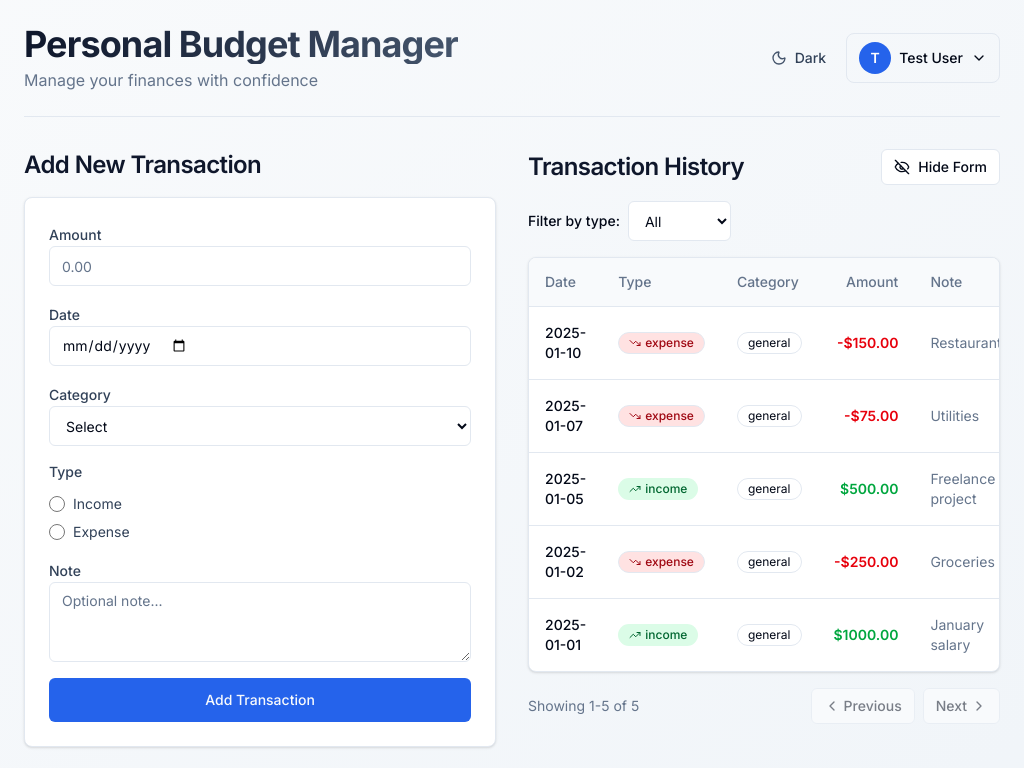
Test: TransactionManager › Authenticated state › filters work correctly in the integrated view
This screenshot has width=1024, height=768.
Expected: the text "Restaurant" is shown, [914,306,999,379]
// Filter by income
Select "Income" in the dropdown labelled "Filter by type:" at (679, 221), box [628,201,731,241]
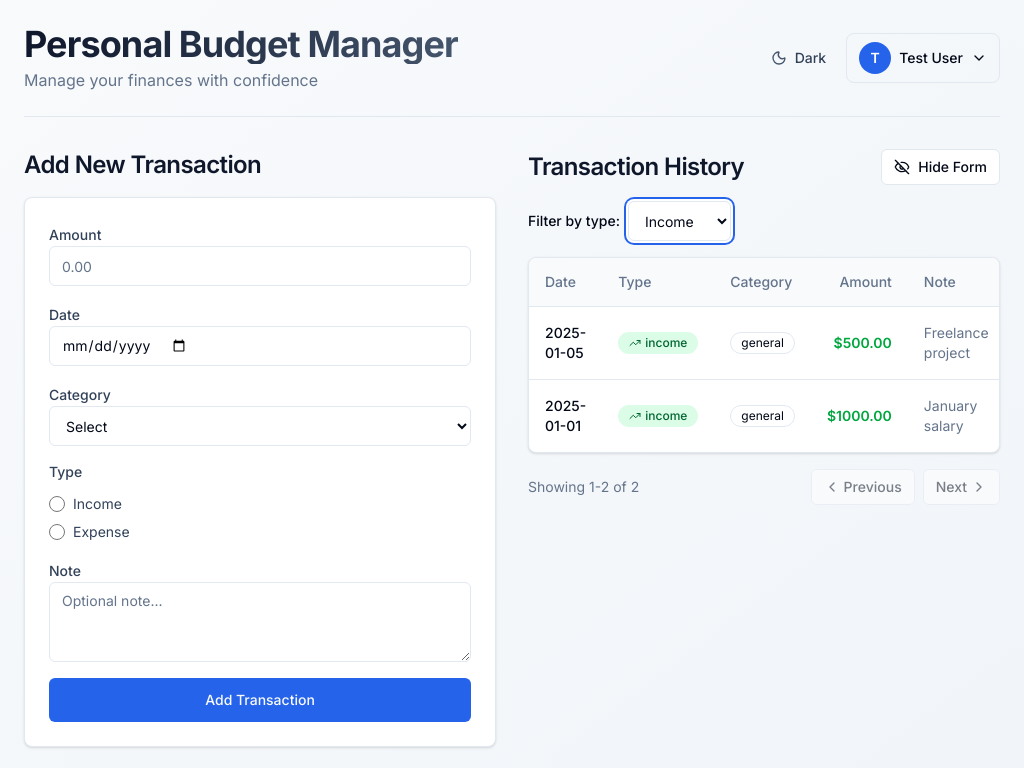
Expected: the text "Restaurant" is gone
Expected: the text "Utilities" is gone
Expected: the text "Showing 1-2 of 2" is shown, [528,476,639,496]
